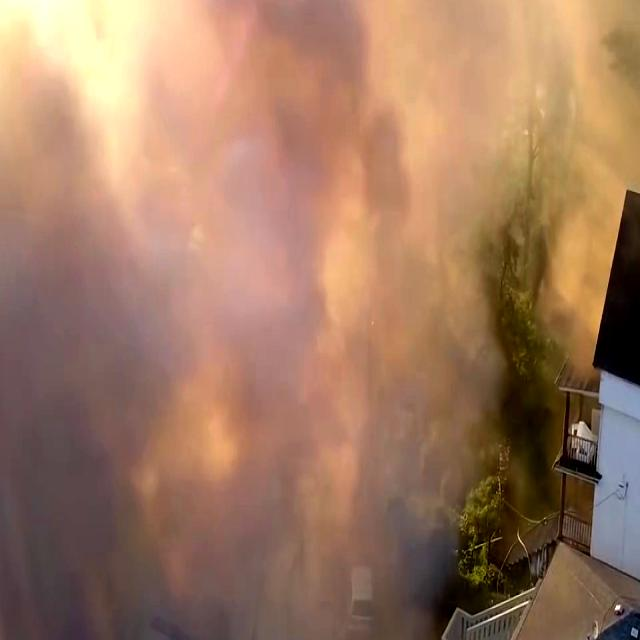smoke: (0, 187, 157, 640), (73, 0, 640, 97)
